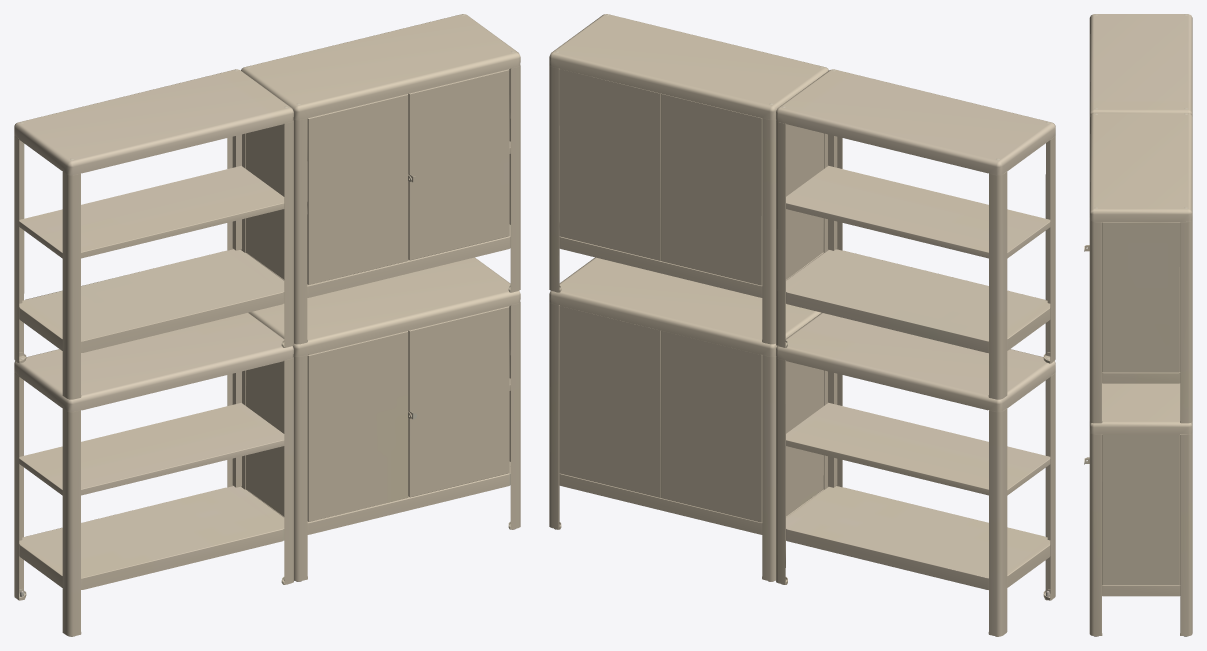
The model's file is kolbjorn-estanteria-con-2-armarios-beige.glb.
The picture shows the model from 3 angles, left to right: view 1: azimuth 30°, elevation 25°; view 2: azimuth 150°, elevation 25°; view 3: azimuth 270°, elevation 25°; orthographic projection. The views are drawn at different scales.
Visible parts, largest first — view 1: Mesh_2; view 2: Mesh_2; view 3: Mesh_2.
Part boxes in pixels (bbox=[...]): Mesh_2: bbox=[14, 14, 520, 636]; Mesh_2: bbox=[549, 14, 1055, 636]; Mesh_2: bbox=[1084, 14, 1192, 636].
Size of the model in its own units: 1.6 by 1.61 by 0.3684.
Materials: 2 (1 with a texture image).
